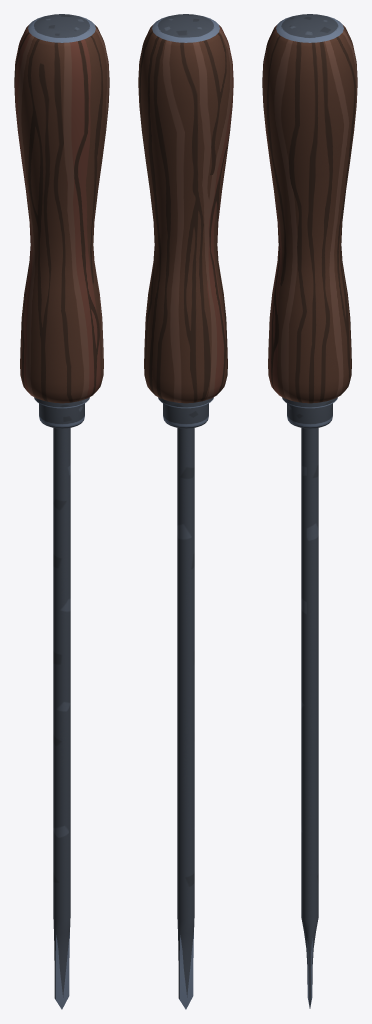
Rendered from LargeSkewer.FBX.
3 renders of one model, left to right at view 1: azimuth 30°, elevation 25°; view 2: azimuth 210°, elevation 25°; view 3: azimuth 270°, elevation 25°, orthographic.
Visible parts, largest first — view 1: Skewer; view 2: Skewer; view 3: Skewer.
Part boxes in pixels (bbox=[...]): Skewer: bbox=[14, 14, 109, 1009]; Skewer: bbox=[138, 14, 233, 1009]; Skewer: bbox=[262, 14, 357, 1008].
Size of the model in its own units: 67.4 by 768 by 67.4.
